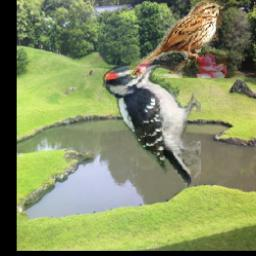Sparrow: (127, 0, 226, 78)
Woodpecker: (101, 60, 200, 187)
